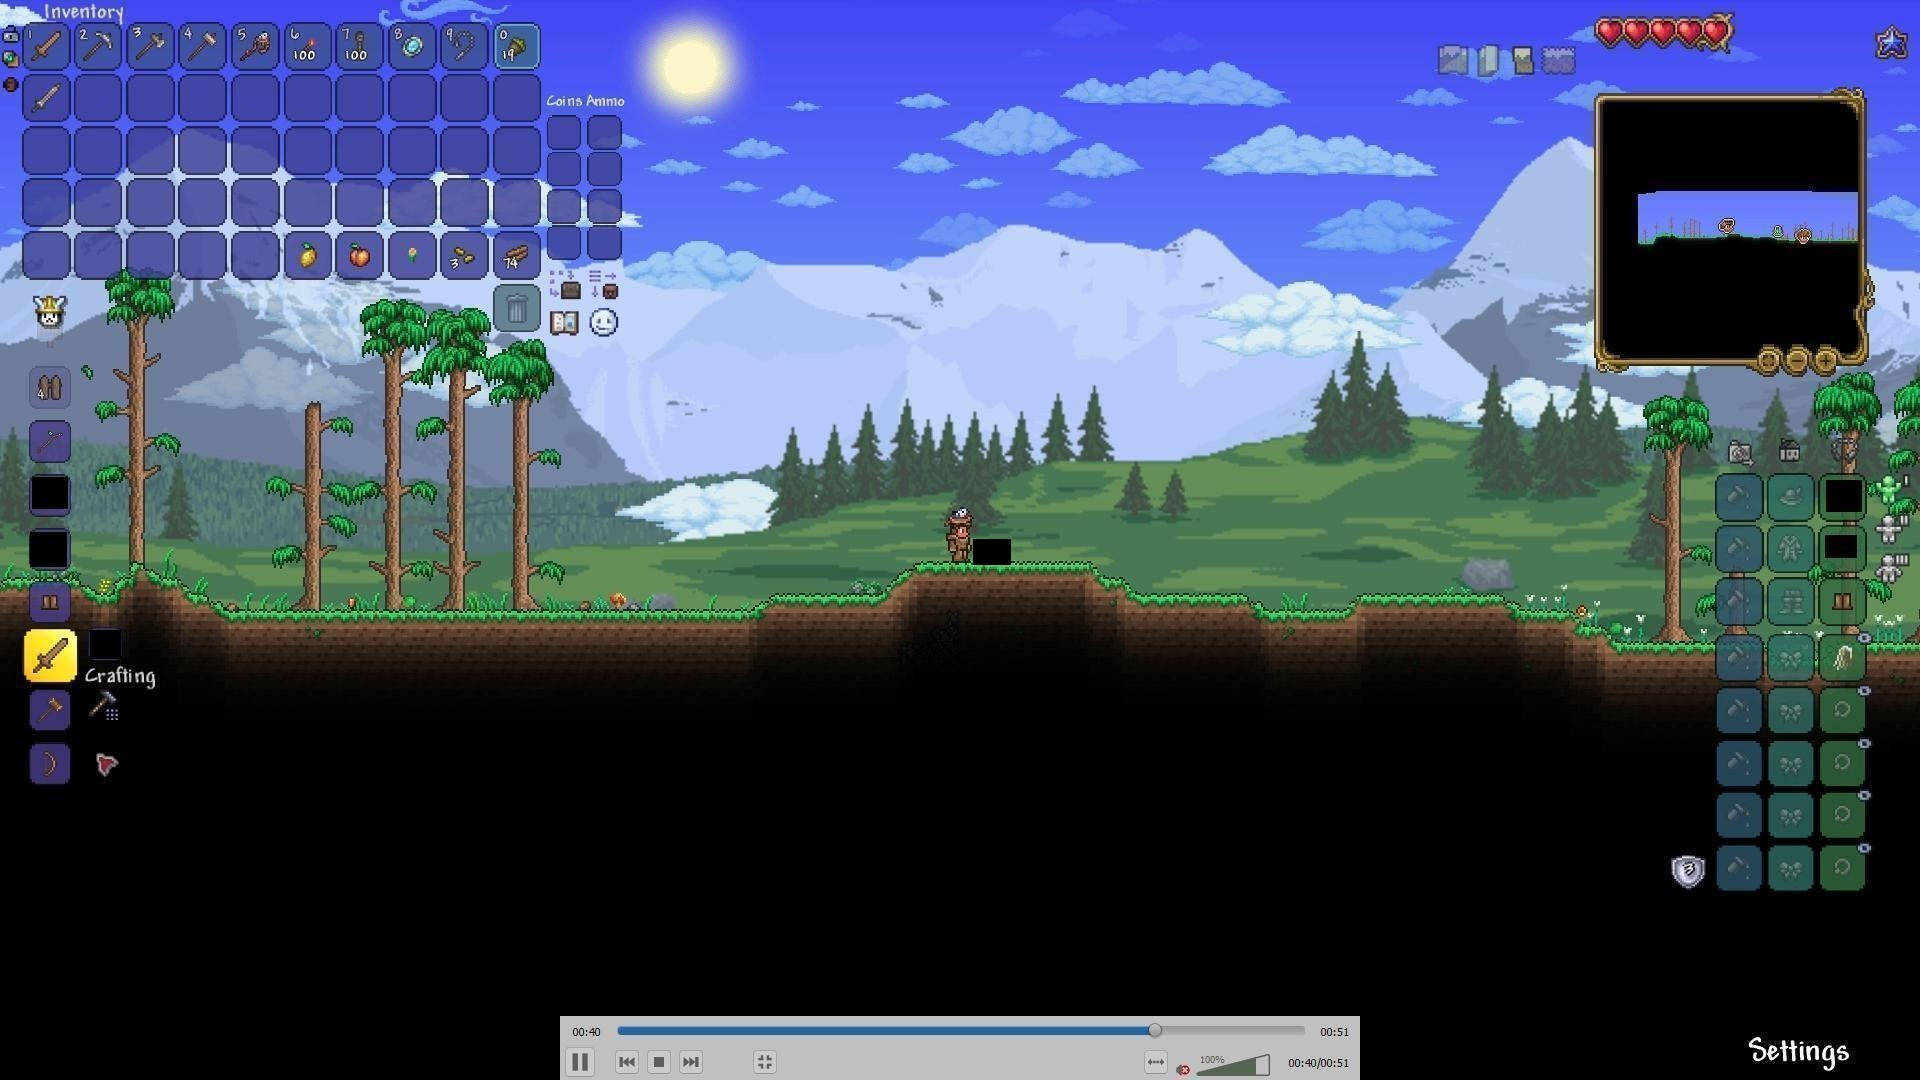legs: (1830, 584, 1855, 615), (40, 589, 65, 616)
wood: (501, 243, 531, 270)
